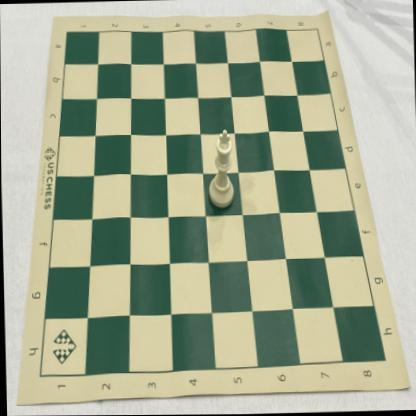white-king: (207, 129, 234, 209)
